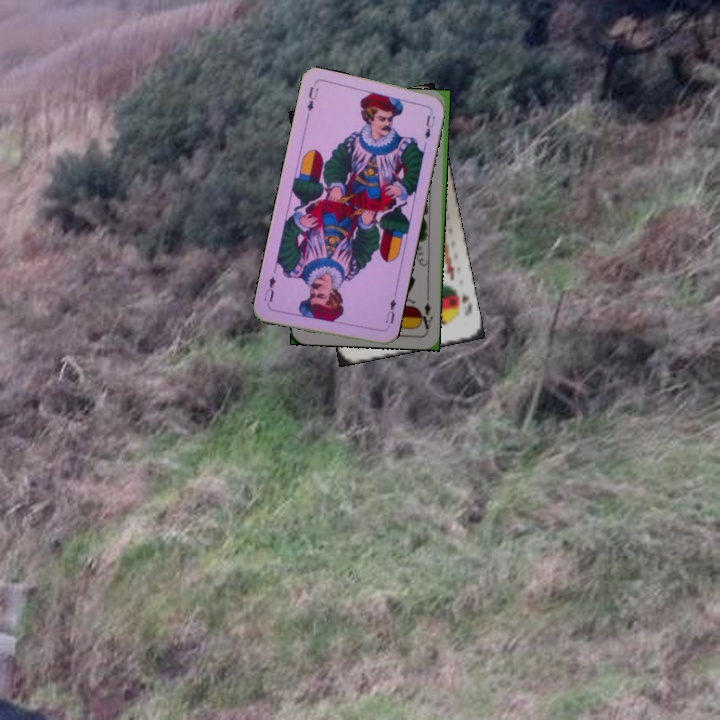EA: (416, 293, 435, 333)
EU: (381, 295, 398, 332), (303, 83, 321, 114)
SK: (457, 291, 474, 320)
